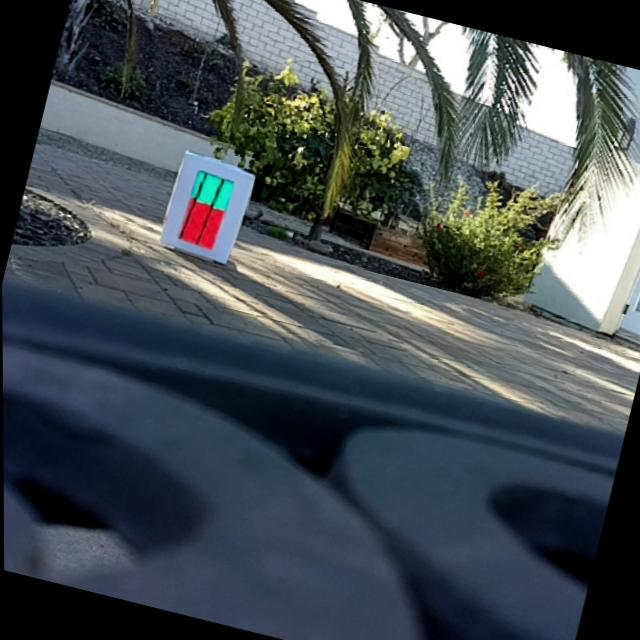led: (175, 168, 236, 254)
